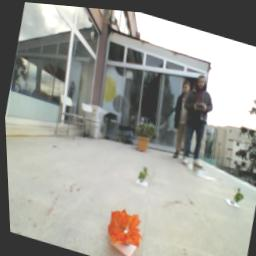herb: (229, 181, 245, 203), (135, 162, 148, 182)
wild: (101, 203, 145, 253)
